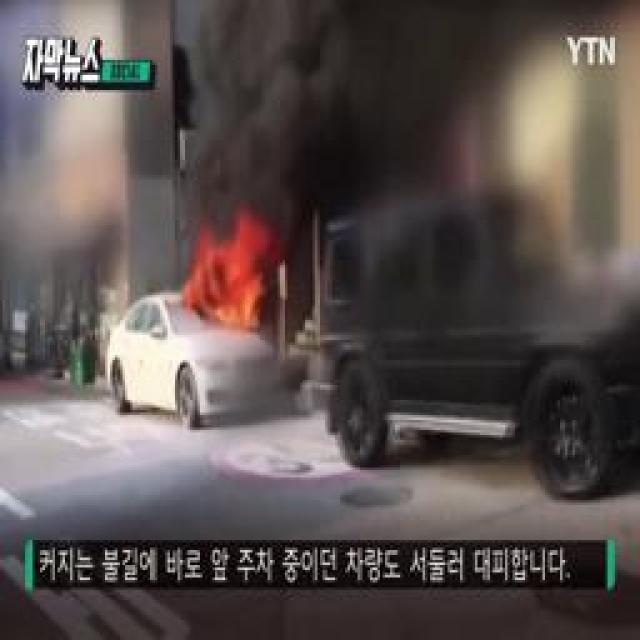Fire: (192, 236, 262, 330)
